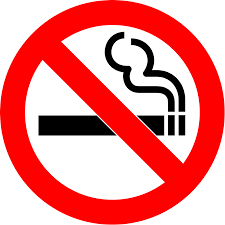nosmoking: (3, 3, 223, 225)
